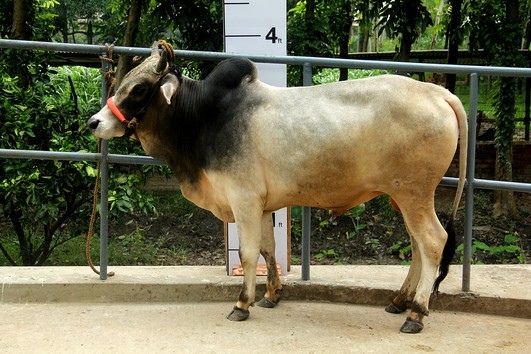cow: (80, 44, 474, 339)
